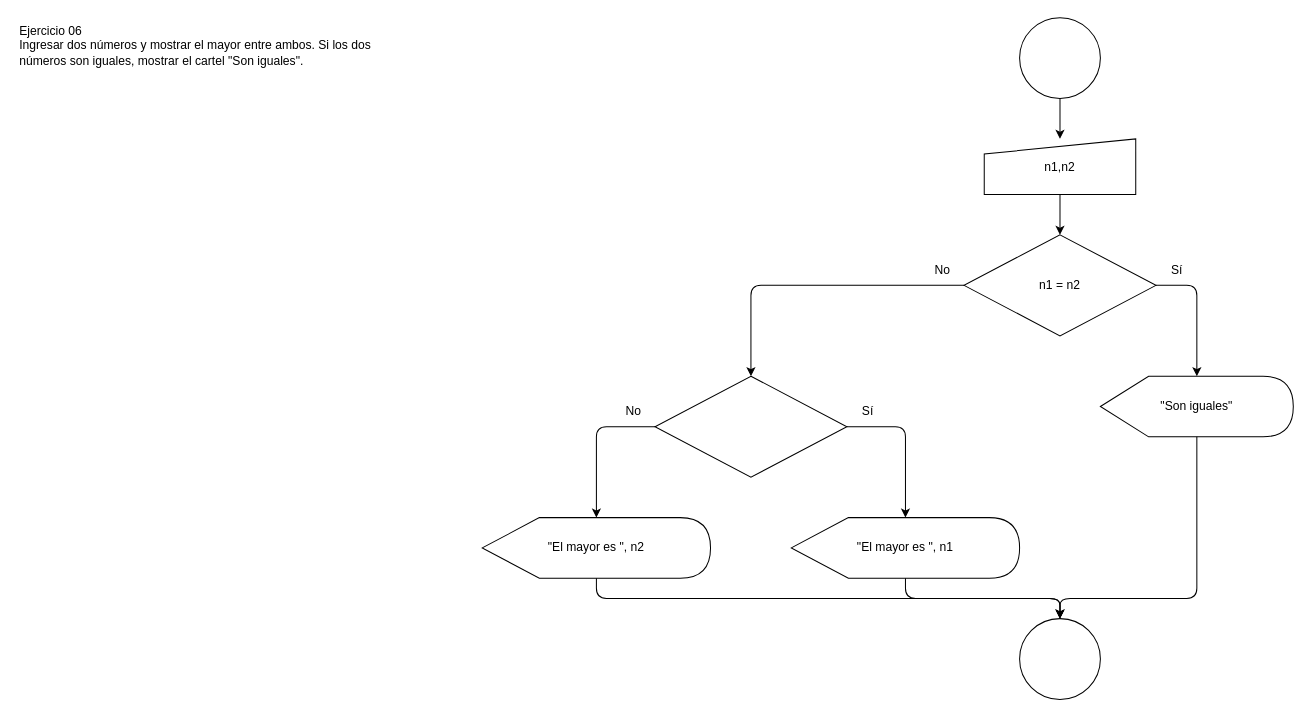
Image size: 1311x717. Some labels were removed from this diagram. The box of each missing label's shape, as (x1, y1, x2, y2) in pixels:
Fin: (1019, 618, 1100, 699)
Inicio: (1019, 17, 1100, 98)
n1 > n2: (654, 375, 847, 477)
